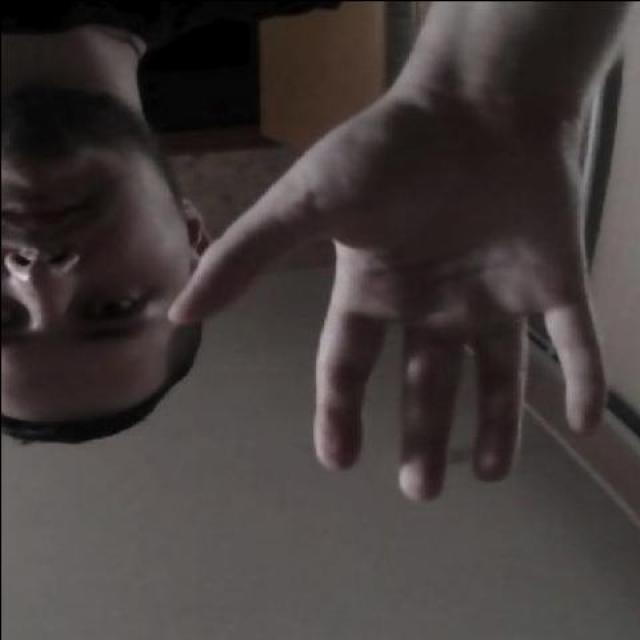Open Hand: (165, 75, 612, 501)
